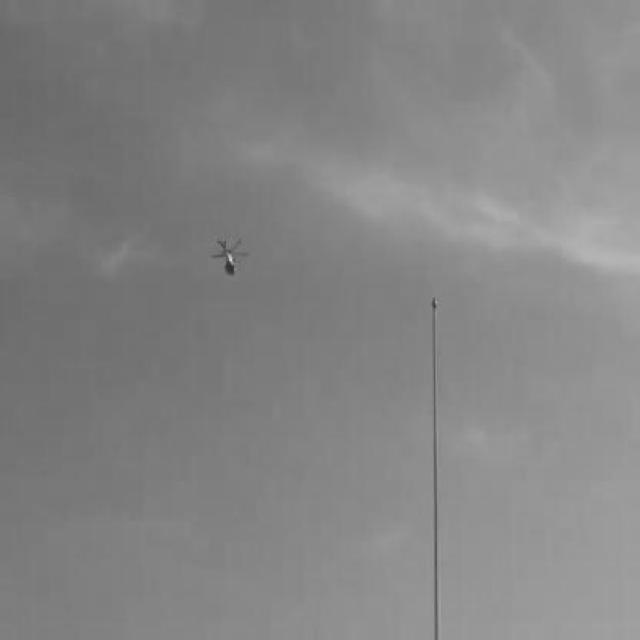helikopter: (208, 226, 250, 285)
